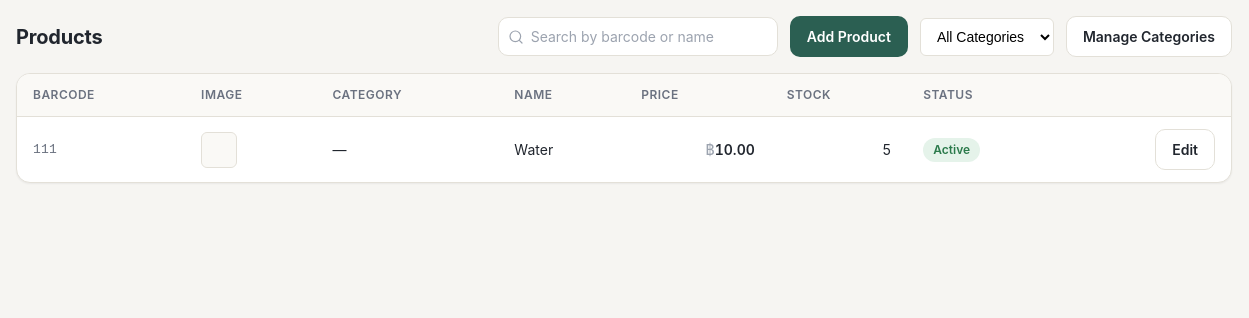
Test case: ProductsPage › shows a category-specific empty state when the selected category has no products
Check: the text "Water" is shown, box left=498, top=116, right=625, bottom=182
Select "Beverages" in the dropdown named "Filter by category" at point(987, 36), box left=920, top=18, right=1054, bottom=56
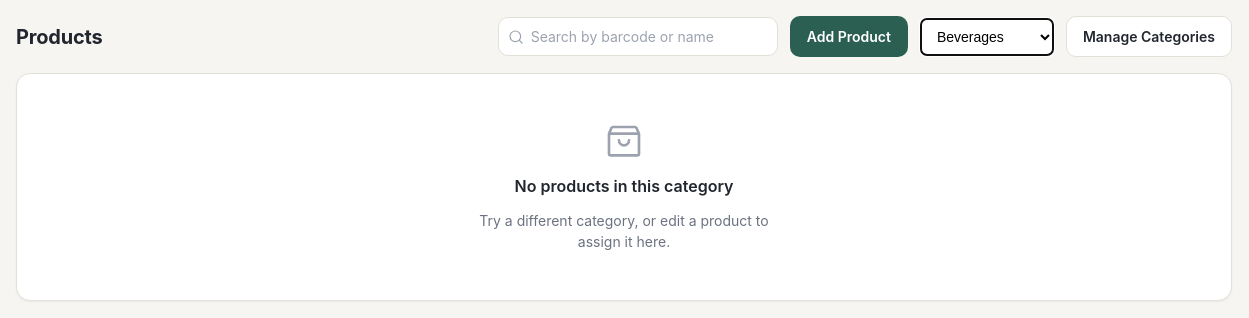
Check: the heading "No products in this category" is shown, box left=514, top=174, right=734, bottom=198
